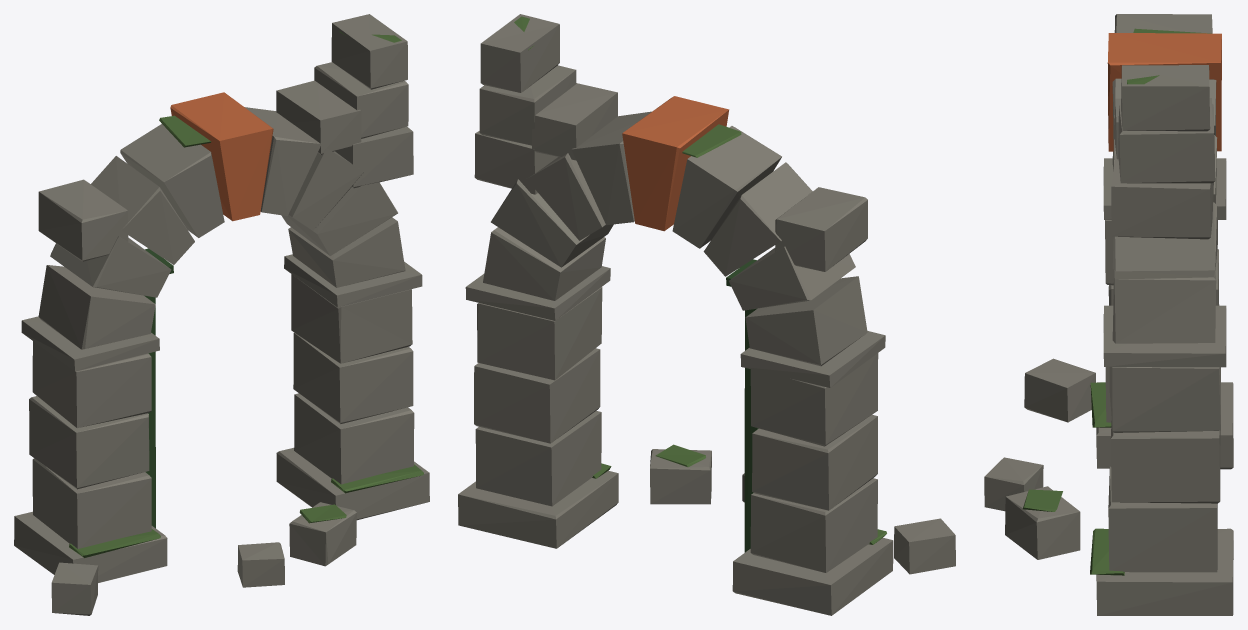
Rendered from ruined_arch_lod1.obj.
3 views of the same model, side by side, from view 1: azimuth 30°, elevation 25°; view 2: azimuth 150°, elevation 25°; view 3: azimuth 270°, elevation 25° (orthographic). The views are drawn at different scales.
Parts seen in each view (by area): view 1: ruined_arch_lod1; view 2: ruined_arch_lod1; view 3: ruined_arch_lod1.
Boxes of the visible parts, x1,y1,x2,y2 form: ruined_arch_lod1: (14, 14, 429, 615); ruined_arch_lod1: (458, 14, 955, 615); ruined_arch_lod1: (984, 14, 1233, 615).
Size of the model in its own units: 4.54 by 4.99 by 2.15.
